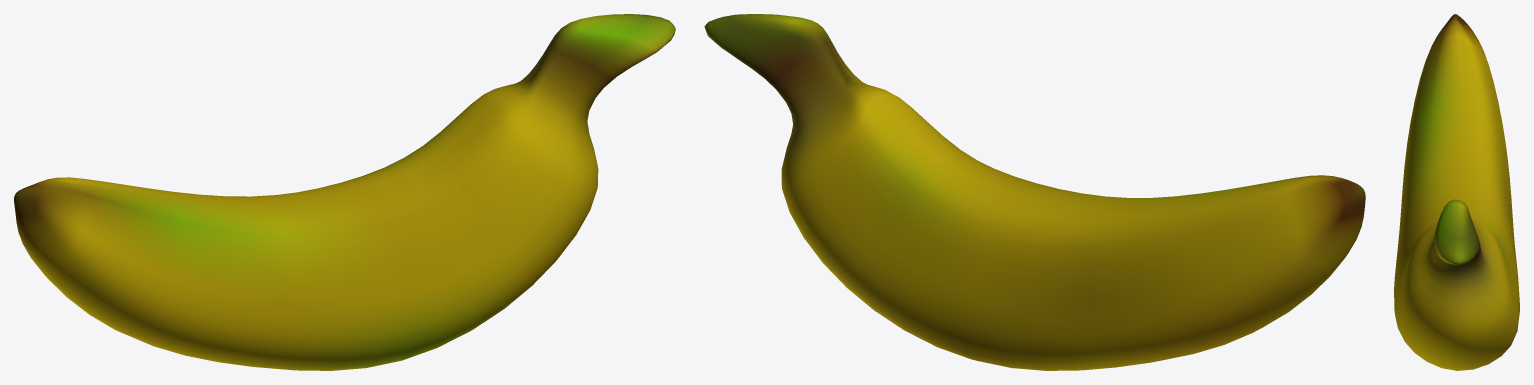
File: banana.gltf
The picture shows the model from 3 angles, left to right: view 1: azimuth 30°, elevation 25°; view 2: azimuth 150°, elevation 25°; view 3: azimuth 270°, elevation 25°; orthographic projection. The views are drawn at different scales.
Parts seen in each view (by area): view 1: Cube; view 2: Cube; view 3: Cube.
Boxes of the visible parts, x1=… form: Cube: x1=14, y1=14, x2=675, y2=370; Cube: x1=704, y1=14, x2=1365, y2=370; Cube: x1=1394, y1=14, x2=1519, y2=370.
Size of the model in its own units: 6.44 by 2.66 by 1.36.
